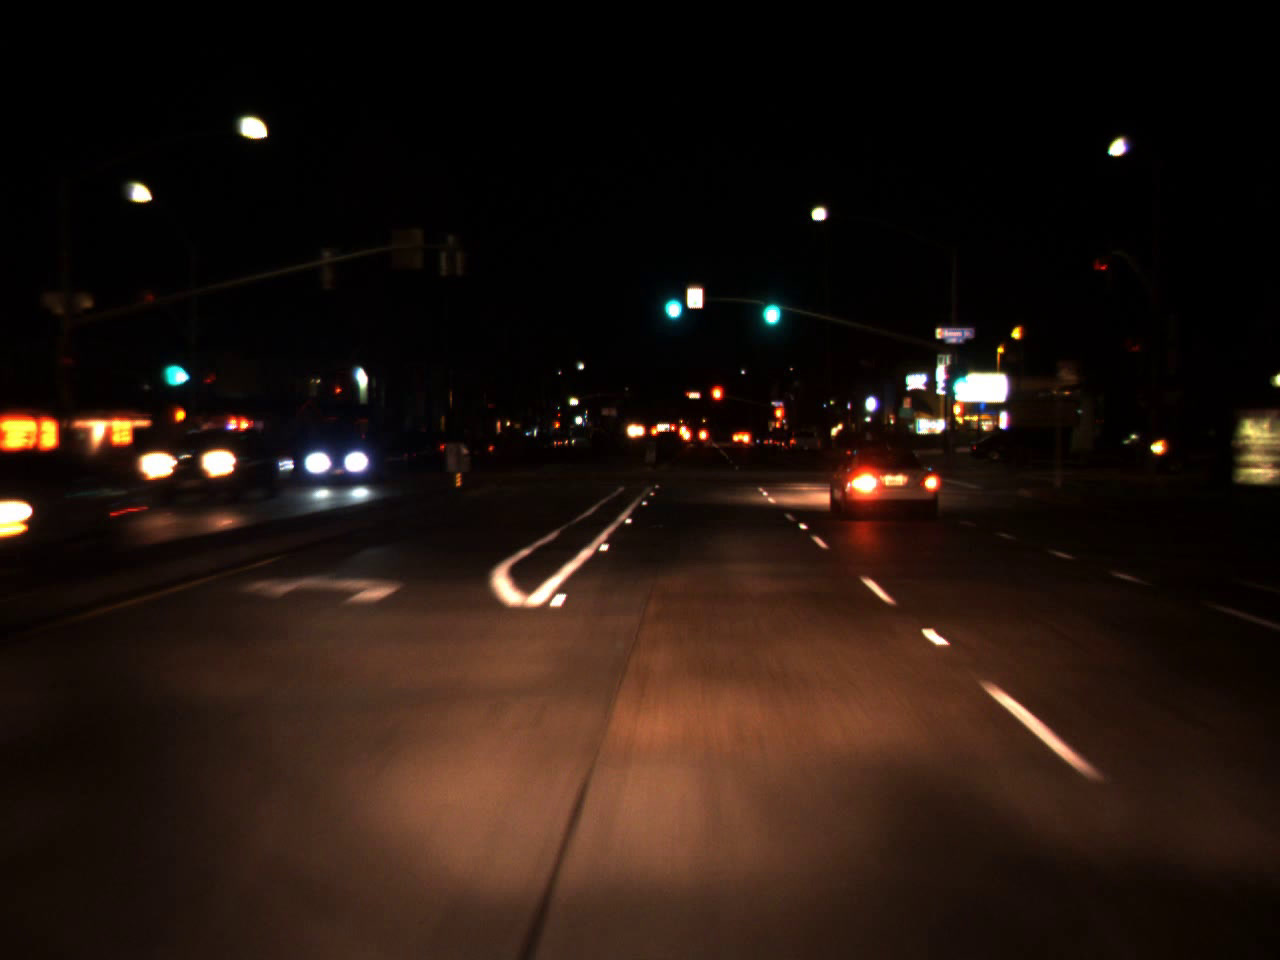go: (158, 339, 188, 393), (756, 276, 784, 333), (658, 283, 685, 319), (949, 363, 974, 399)
stop: (709, 382, 724, 419), (771, 401, 786, 436)
